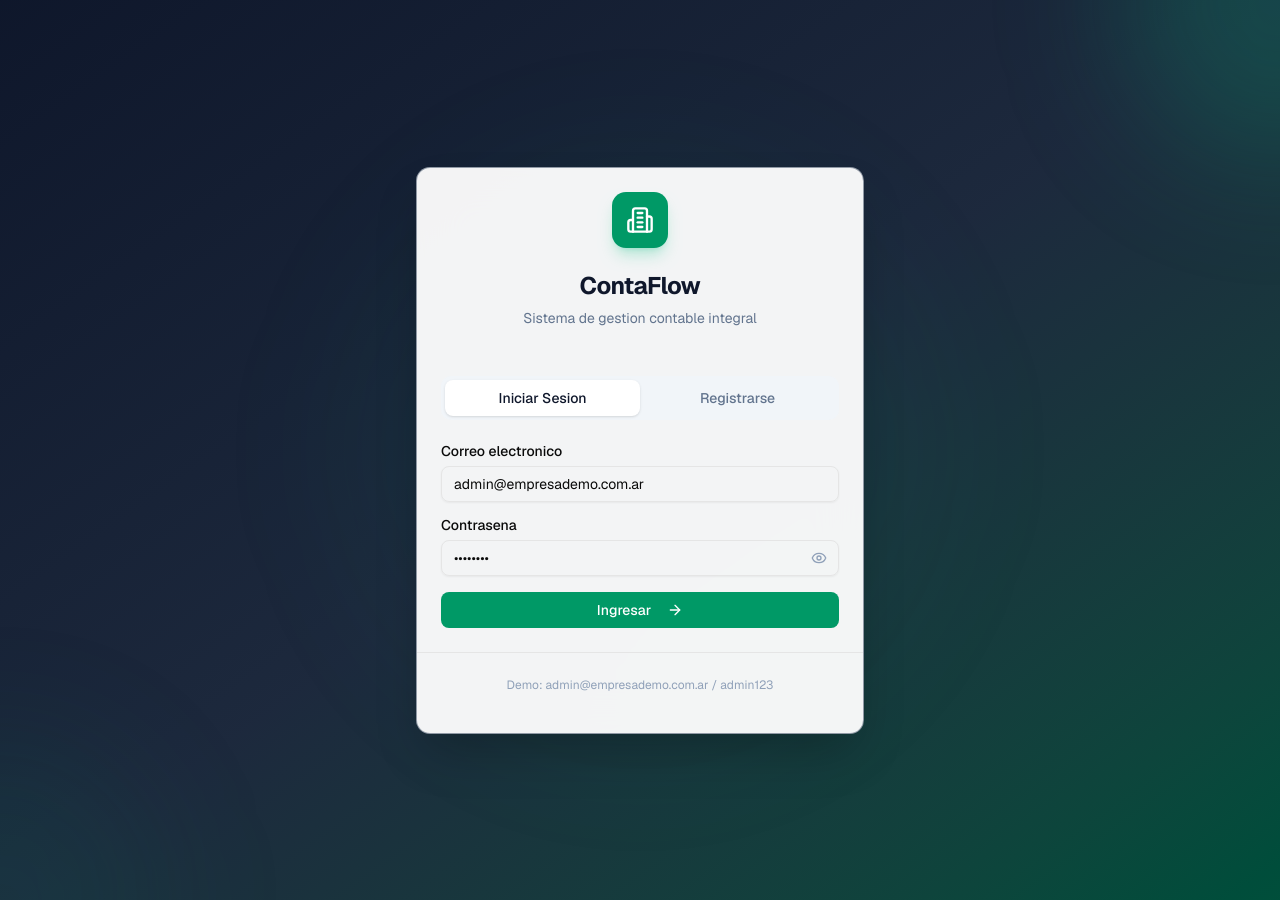
Test: AuthScreen › switches to register mode
Click the button "Registrarse" at (738, 398), box [640,380,835,416]
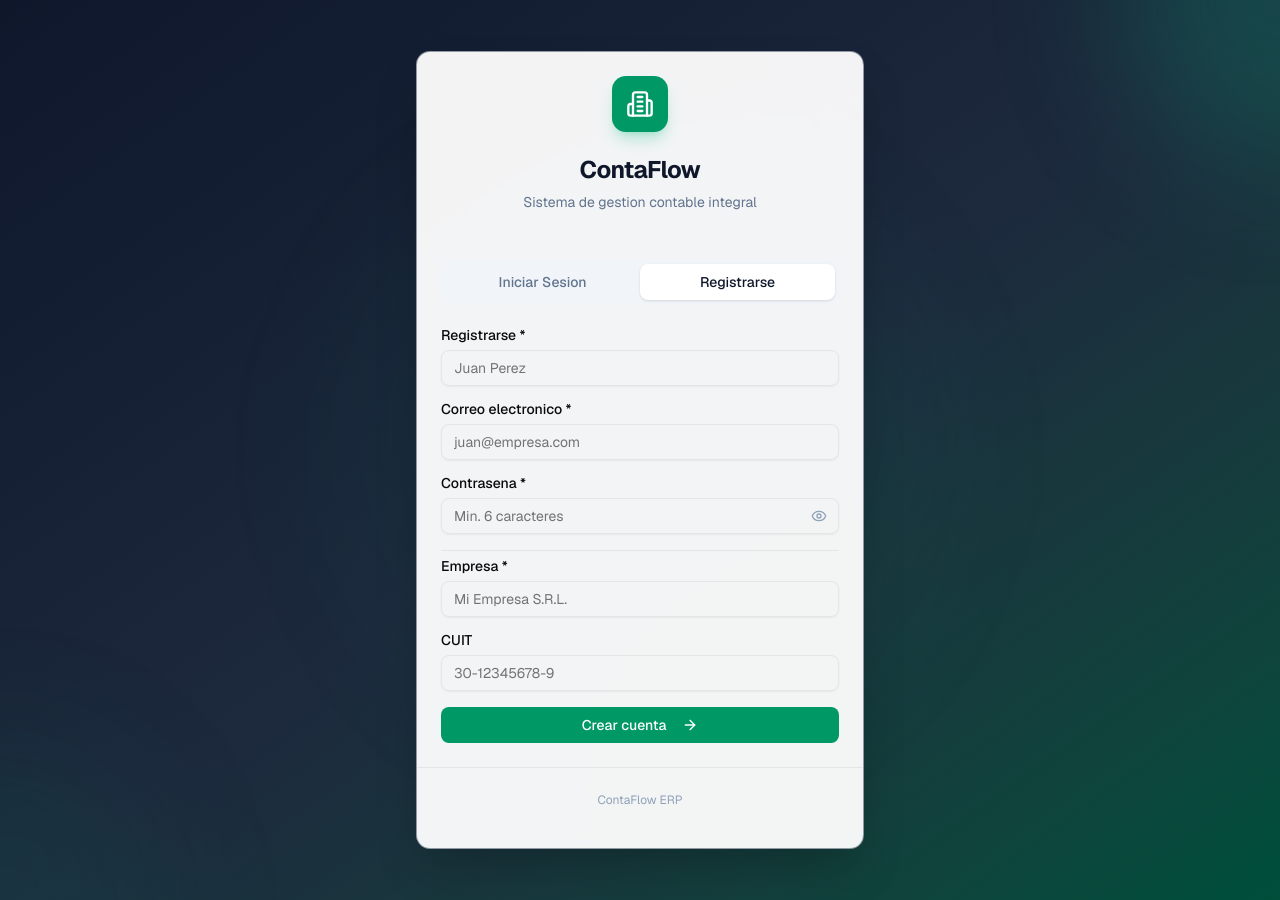
Expected: the button "Crear cuenta" is shown, [441,707,839,743]
